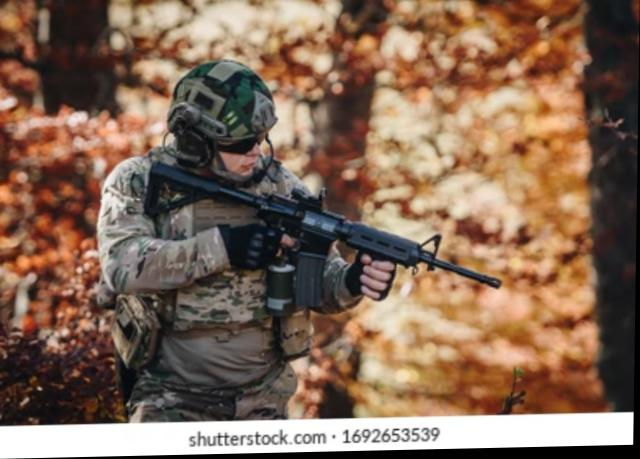other: (97, 61, 339, 416)
